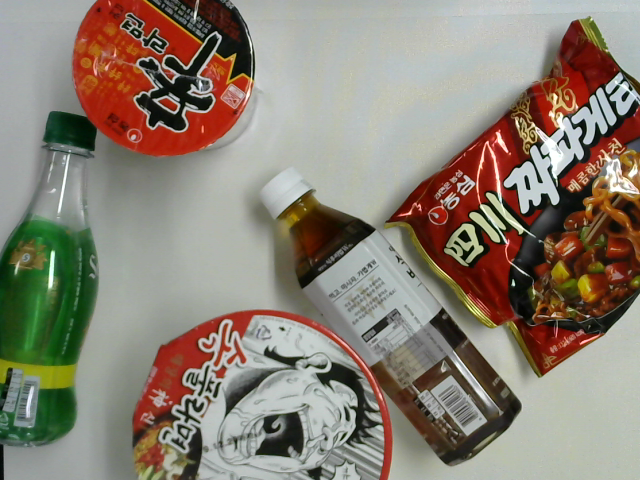Hejangpul: (126, 309, 395, 480)
Post-meal_recipe_W_tea_500ml: (256, 165, 525, 469)
Seagram_Lemon_Carbonated_Water: (1, 111, 108, 451)
Sichuan_Chapaghetti: (380, 15, 640, 380)
Sinramen_small: (70, 1, 257, 158)
